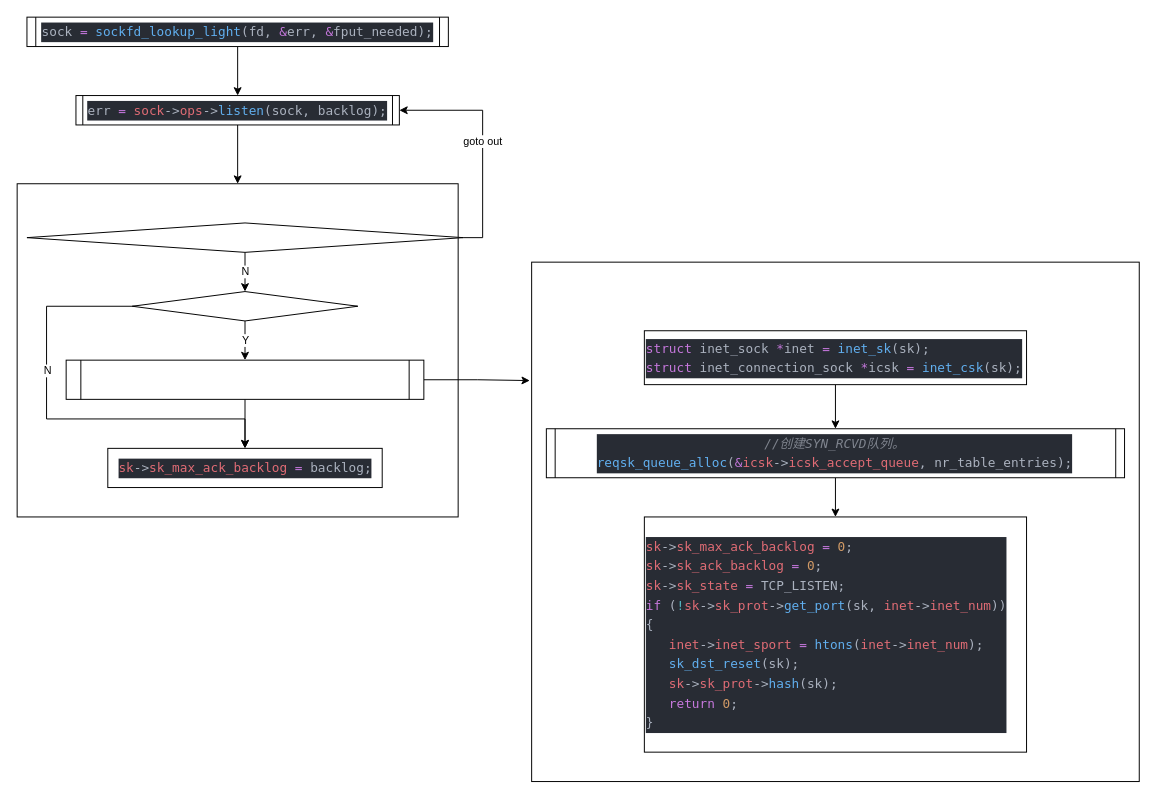
Some shapes in this 1156 by 799 pixel diagram are drawn without their labels. The box of each missing label's shape, as (x1, y1, x2, y2) in pixels:
! (( 1 << old_state) & (TCPF_CLOSE | TCPF_LISTEN)): (26, 222, 463, 252)
inet_csk_listen_start (sk, backlog);: (65, 359, 424, 399)
old_state != TCP_LISTEN: (131, 291, 358, 321)
